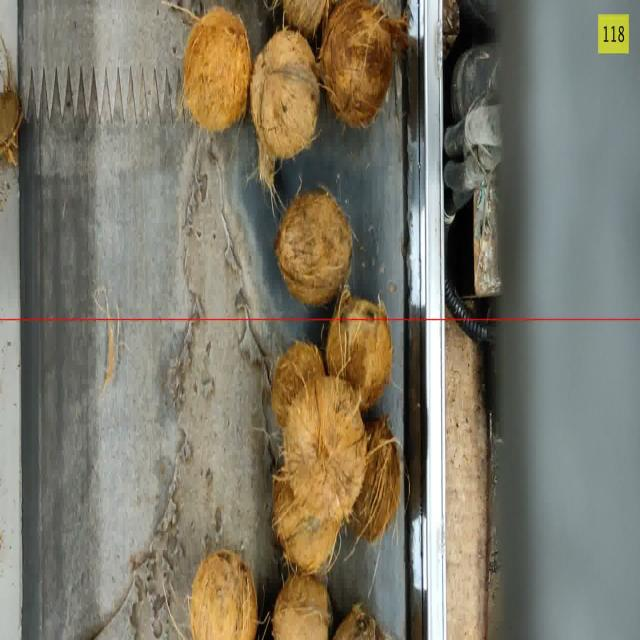Coconut-Conveyor-Belt: (281, 377, 366, 520), (320, 0, 408, 126), (250, 29, 319, 189), (275, 191, 352, 305), (184, 7, 251, 132), (326, 289, 392, 410), (273, 478, 340, 574), (352, 416, 402, 542), (190, 551, 257, 639), (272, 342, 325, 429), (273, 575, 331, 639), (0, 37, 23, 165), (333, 605, 389, 639), (282, 0, 331, 37)
